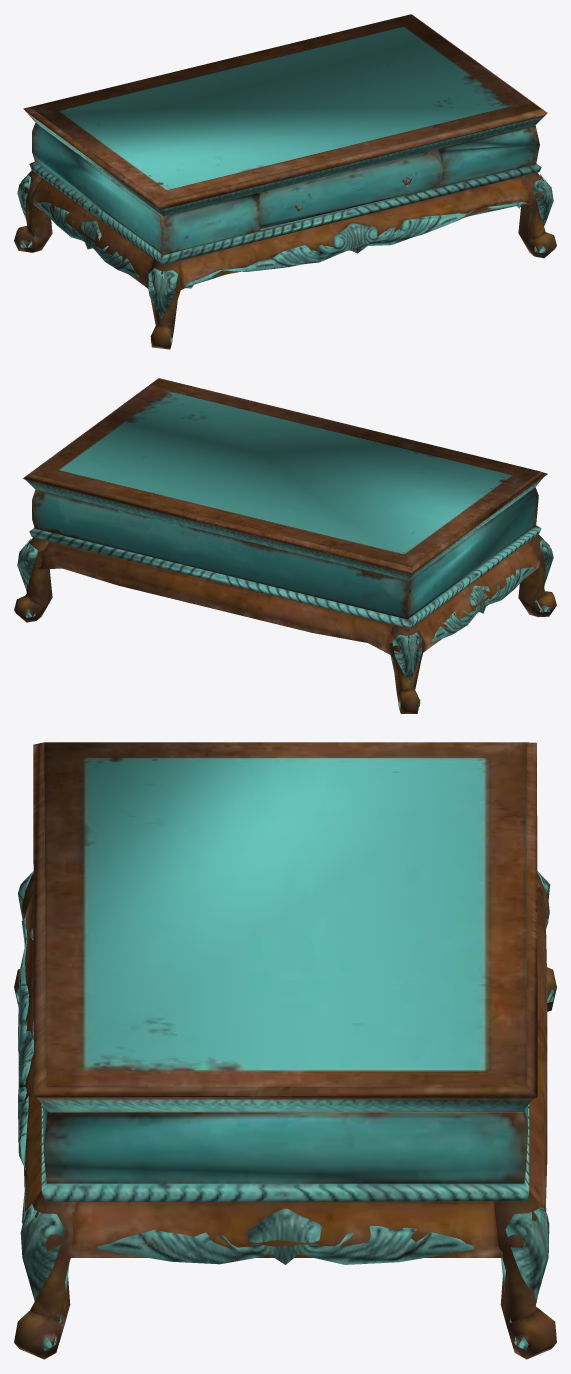
File: CoffeeTable_01.glb
The picture shows the model from 3 angles, top to bottom: view 1: azimuth 30°, elevation 25°; view 2: azimuth 150°, elevation 25°; view 3: azimuth 270°, elevation 25°; orthographic projection. The views are drawn at different scales.
Parts seen in each view (by area): view 1: CoffeeTable_01; view 2: CoffeeTable_01; view 3: CoffeeTable_01.
Boxes of the visible parts, bbox=[...] form: CoffeeTable_01: bbox=[14, 14, 556, 349]; CoffeeTable_01: bbox=[14, 378, 556, 713]; CoffeeTable_01: bbox=[14, 742, 556, 1359].
Bounding box in the file's own units: 1.53 × 0.5211 × 0.9666.
1 material, 1 textured.
